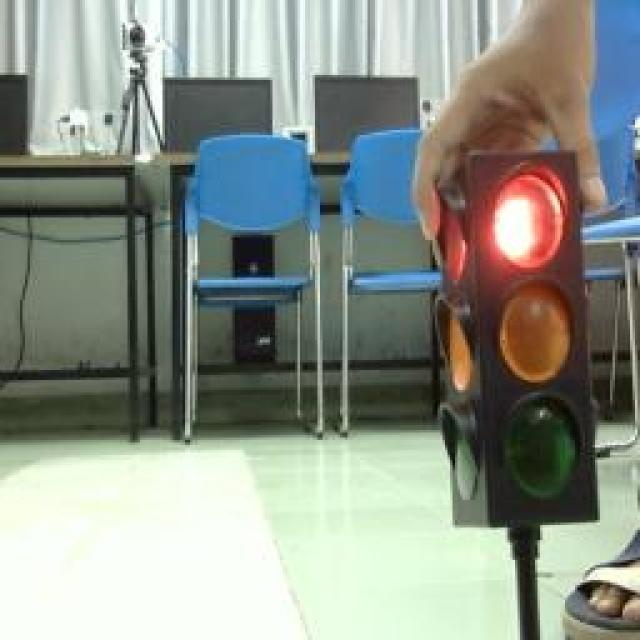-: (489, 162, 579, 275)
